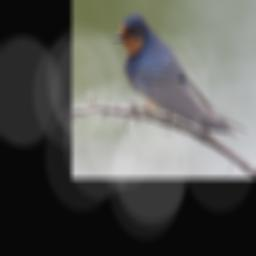Swallow: (112, 12, 248, 138)
